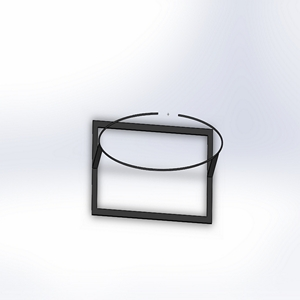circle: (89, 111, 225, 226)
